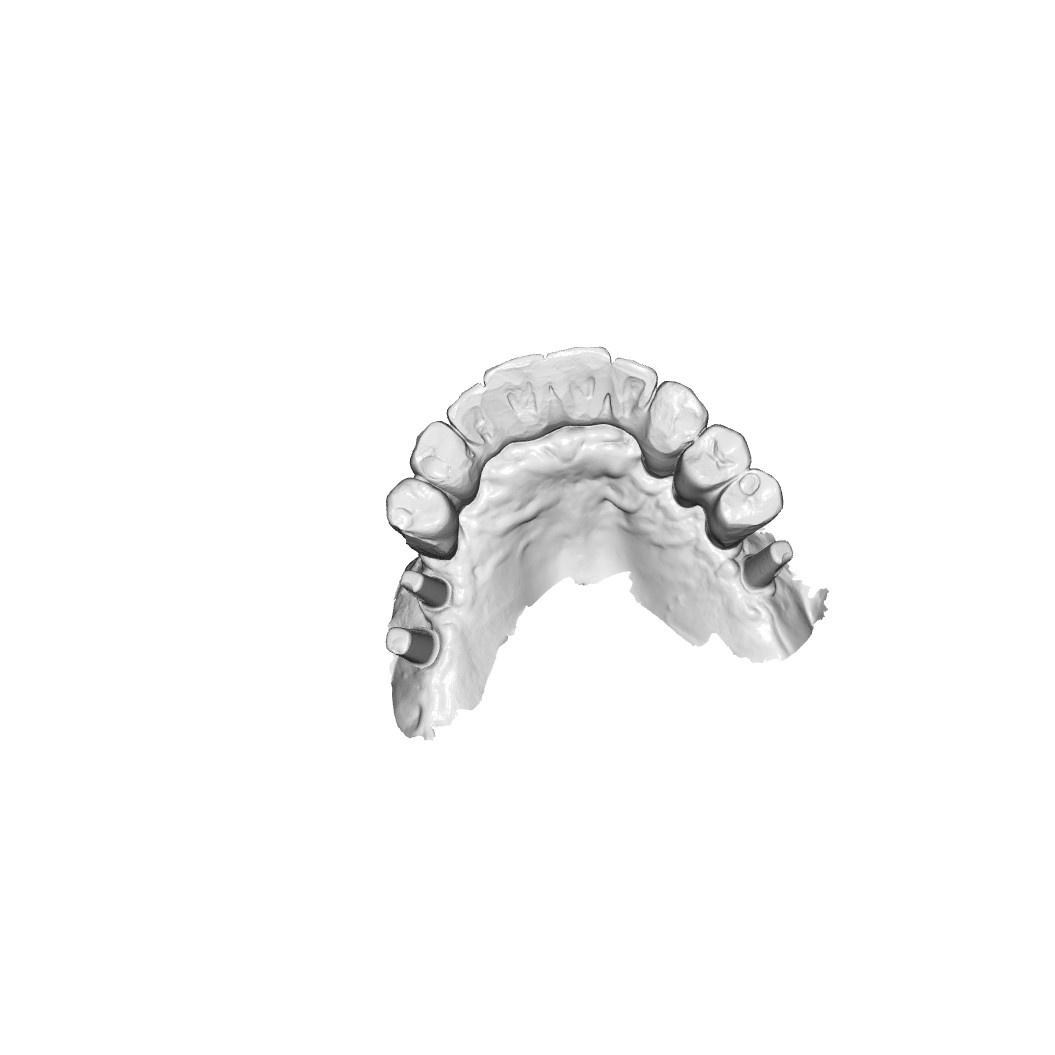abutment: (740, 536, 798, 590), (394, 563, 454, 614), (383, 623, 442, 671)
canine: (645, 382, 710, 459), (412, 421, 480, 491)
incisor: (548, 345, 610, 424), (485, 348, 548, 405), (611, 357, 658, 430), (435, 378, 488, 437)
premolar: (381, 477, 461, 544), (676, 424, 749, 490), (714, 470, 783, 531)
